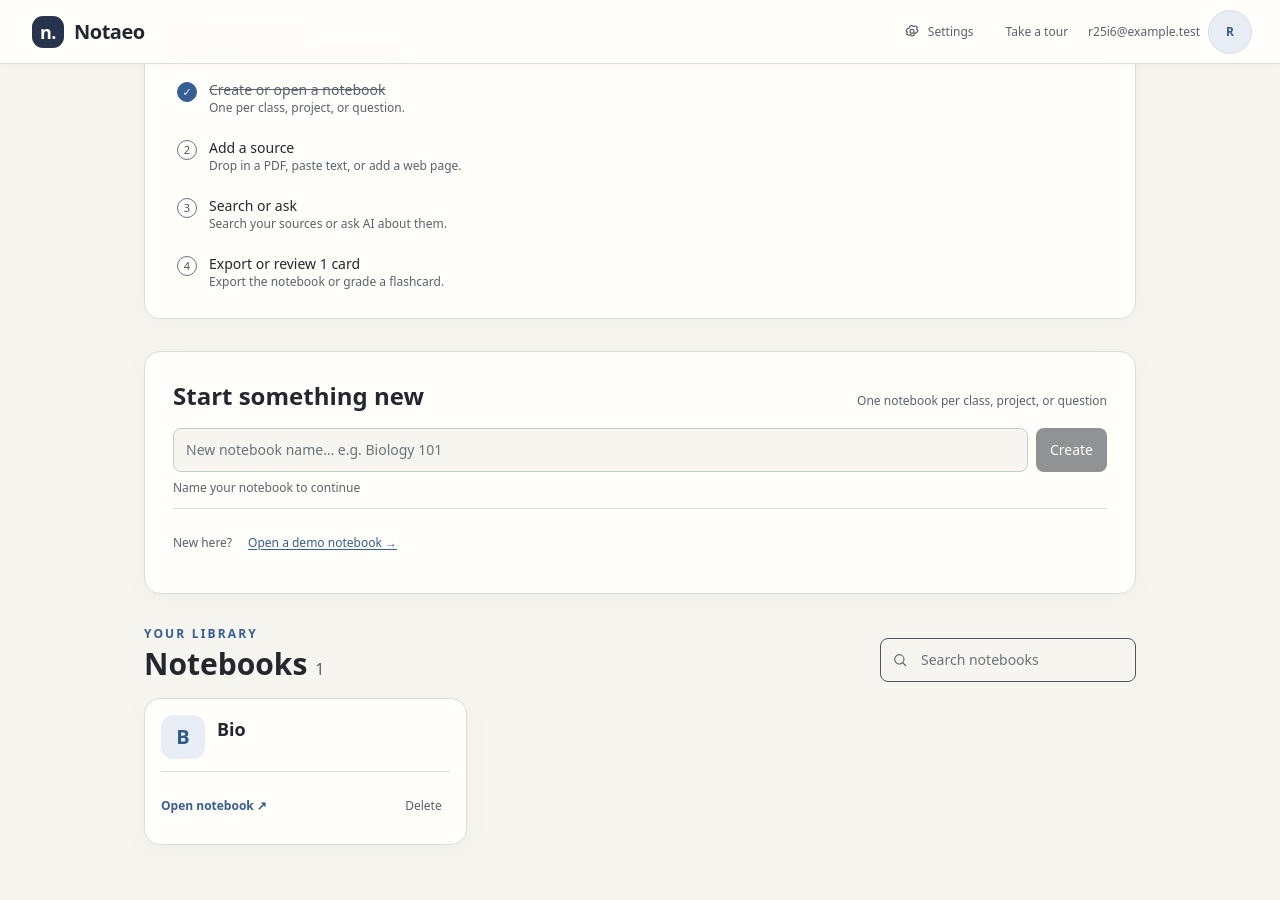
it: mobile viewport mounts only the bottom bar
(page scrolled)
Click the button with aria-label "Open Bio" at (183, 737), box [161,715,450,759]
(page scrolled)
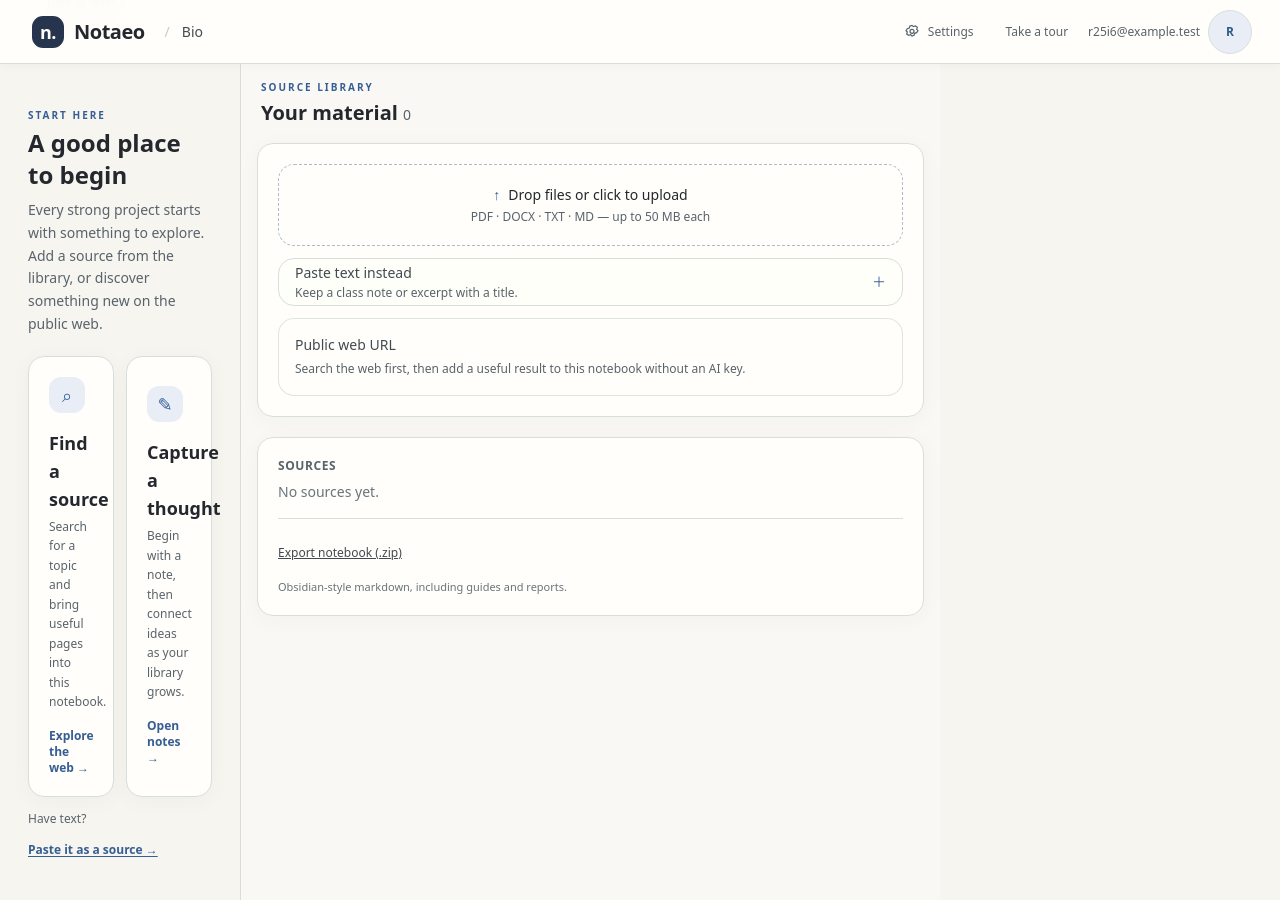
Result: the button "Export notebook (.zip)" is shown at [278,530,402,574]
